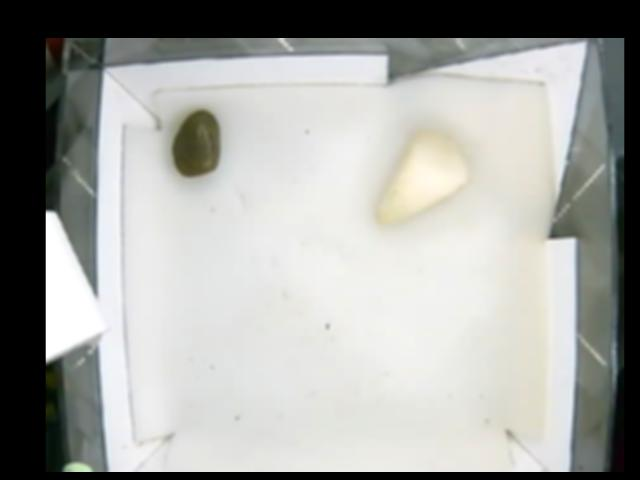Mooli: (374, 129, 470, 229)
Pebble: (171, 113, 222, 178)
